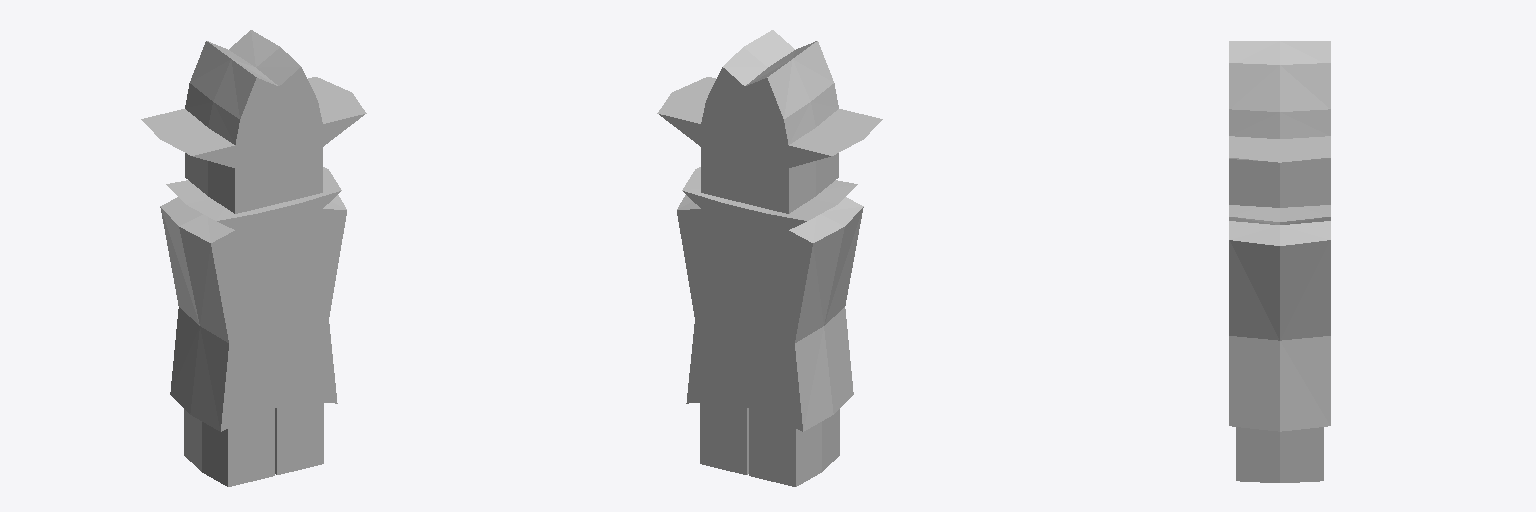
The model's file is sketchyguy1.obj.
3 renders of one model, left to right at view 1: azimuth 30°, elevation 25°; view 2: azimuth 150°, elevation 25°; view 3: azimuth 270°, elevation 25°, orthographic.
Bounding box in the file's own units: 4.39 × 8.86 × 2.